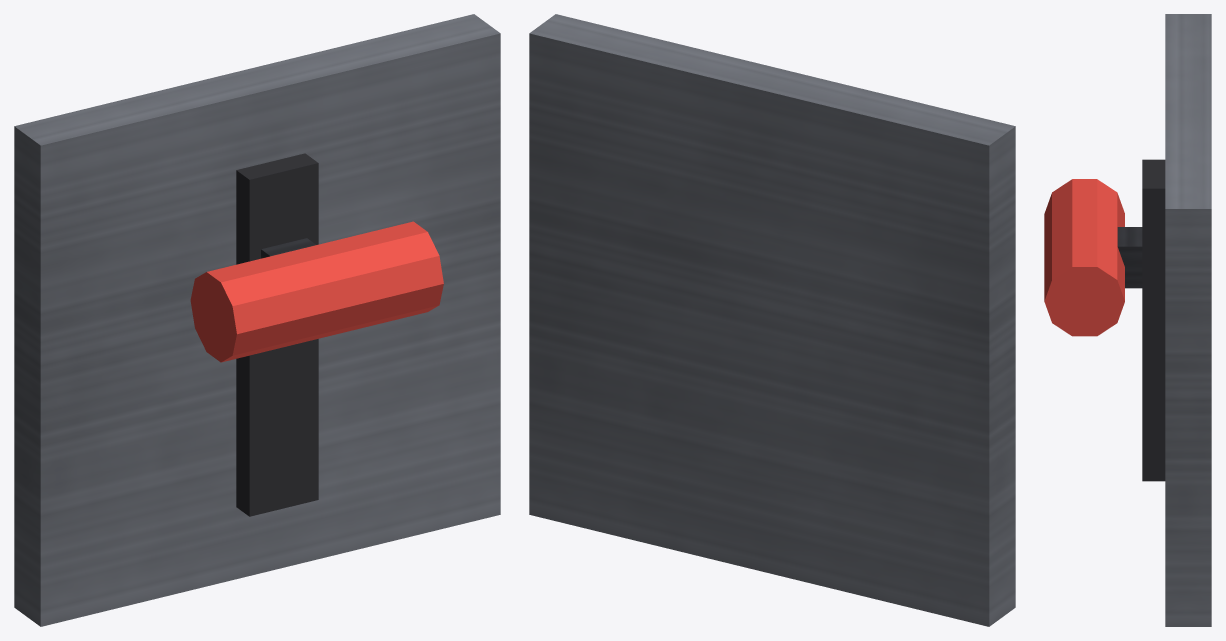
The model's file is Lever.fbx.
3 renders of one model, left to right at view 1: azimuth 30°, elevation 25°; view 2: azimuth 150°, elevation 25°; view 3: azimuth 270°, elevation 25°, orthographic. The views are drawn at different scales.
Visible parts, largest first — view 1: Lever; view 2: Lever; view 3: Lever.
Part boxes in pixels (box(x1,y1,x2,y2)): Lever: box(14, 14, 500, 626); Lever: box(529, 14, 1015, 626); Lever: box(1044, 14, 1211, 626).
Size of the model in its own units: 0.4 by 0.4 by 0.145.
4 materials, 2 textured.
